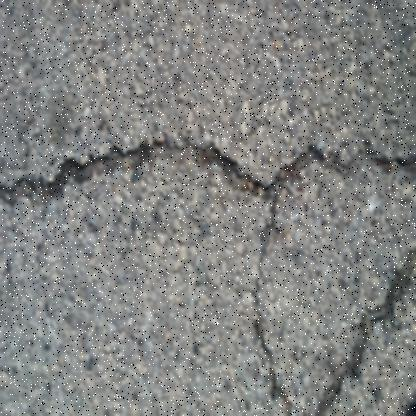Cracks: (254, 138, 416, 416), (0, 127, 275, 220)
